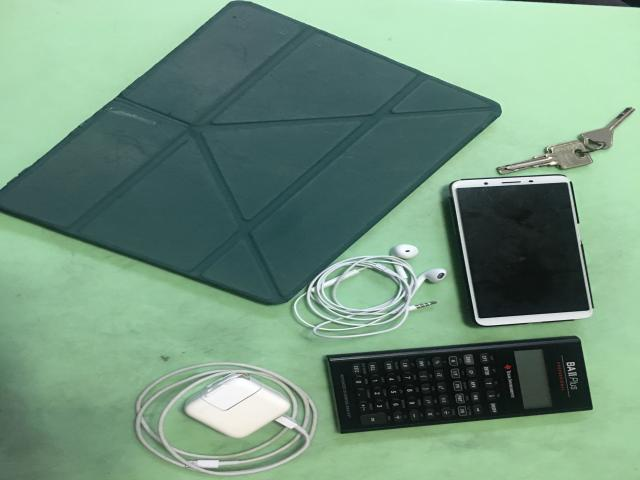Keys: (497, 107, 635, 174)
Mobile phone: (450, 174, 593, 326)
wire: (135, 363, 317, 475)
